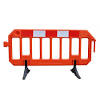barrier: (4, 28, 96, 81)
